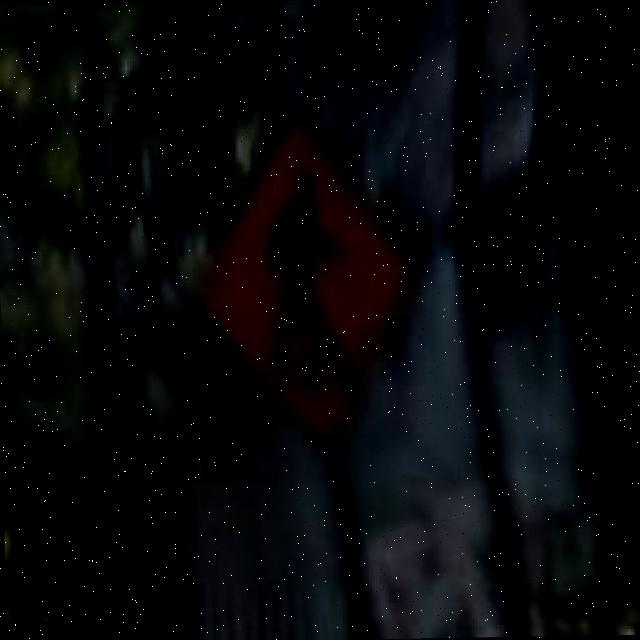Przejscie dla pieszych: (202, 119, 424, 431)
